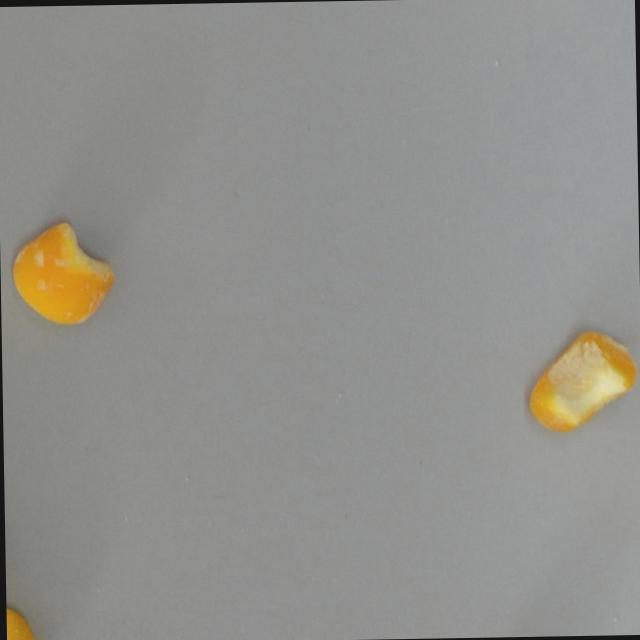dañado: (522, 323, 639, 436), (5, 218, 118, 330), (5, 603, 50, 640)
